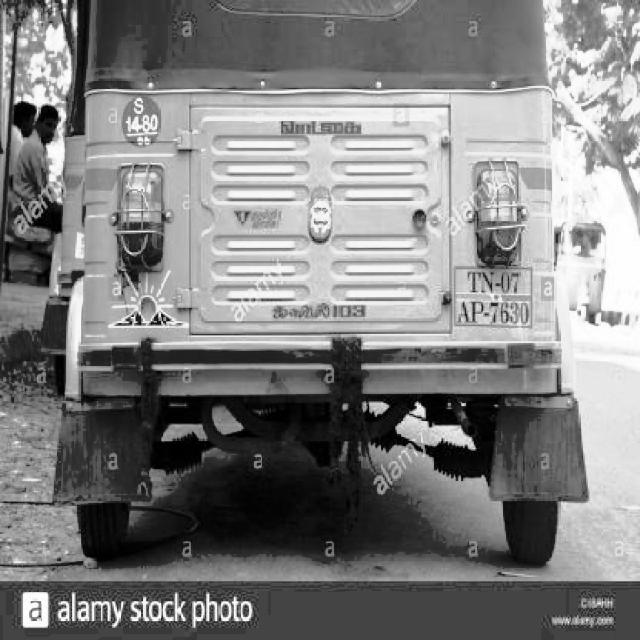Auto-Rickshaw: (57, 0, 592, 574)
